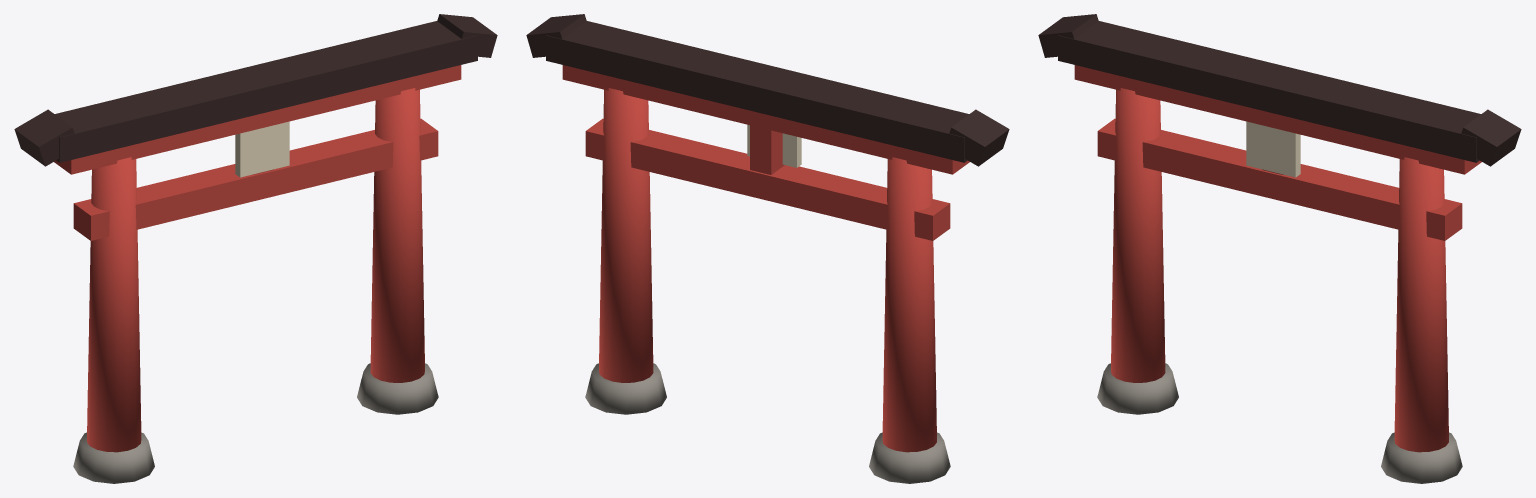
File: xy_landmark_torii.glb
3 views of the same model, side by side, from view 1: azimuth 30°, elevation 25°; view 2: azimuth 150°, elevation 25°; view 3: azimuth 330°, elevation 25° (orthographic).
Parts seen in each view (by area): view 1: xy_landmark_torii; view 2: xy_landmark_torii; view 3: xy_landmark_torii.
Part boxes in pixels (x1,y1,x2,y2): xy_landmark_torii: [14, 14, 497, 483]; xy_landmark_torii: [526, 14, 1009, 483]; xy_landmark_torii: [1038, 14, 1521, 483].
Size of the model in its own units: 6.47 by 4.87 by 1.
